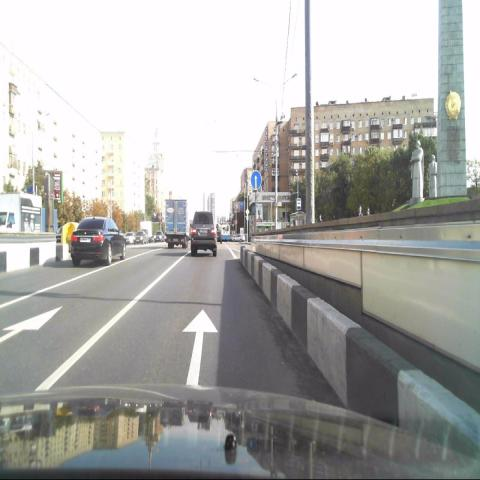4_1_1: (250, 171, 262, 189)
